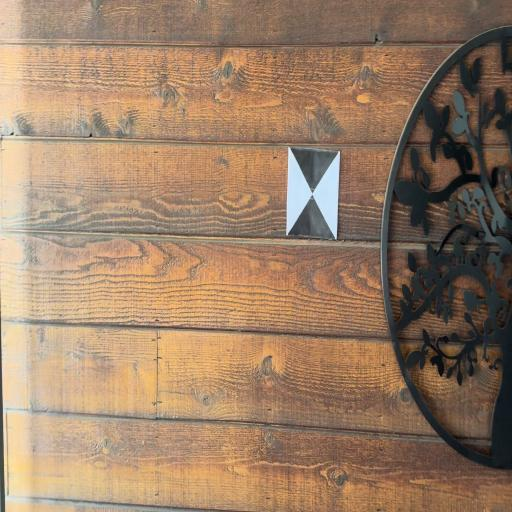target: (287, 145, 339, 238)
